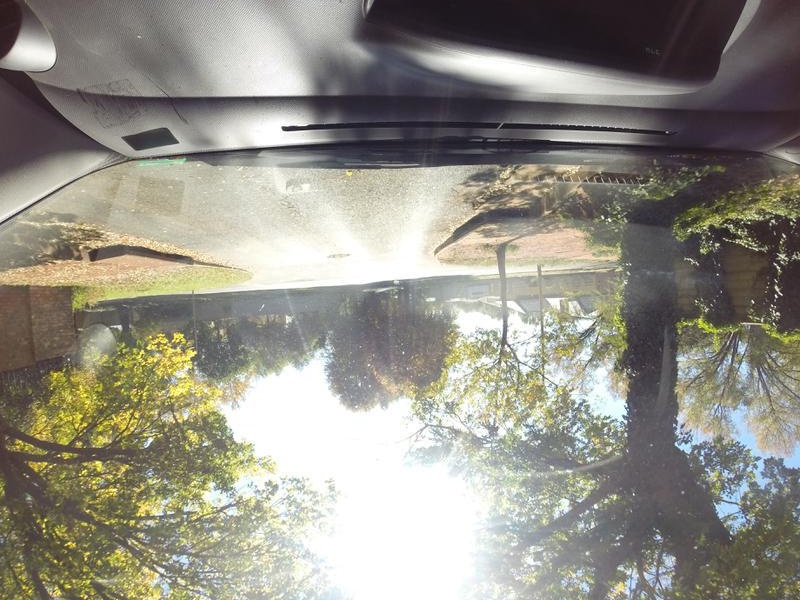pothole: (322, 250, 350, 260)
